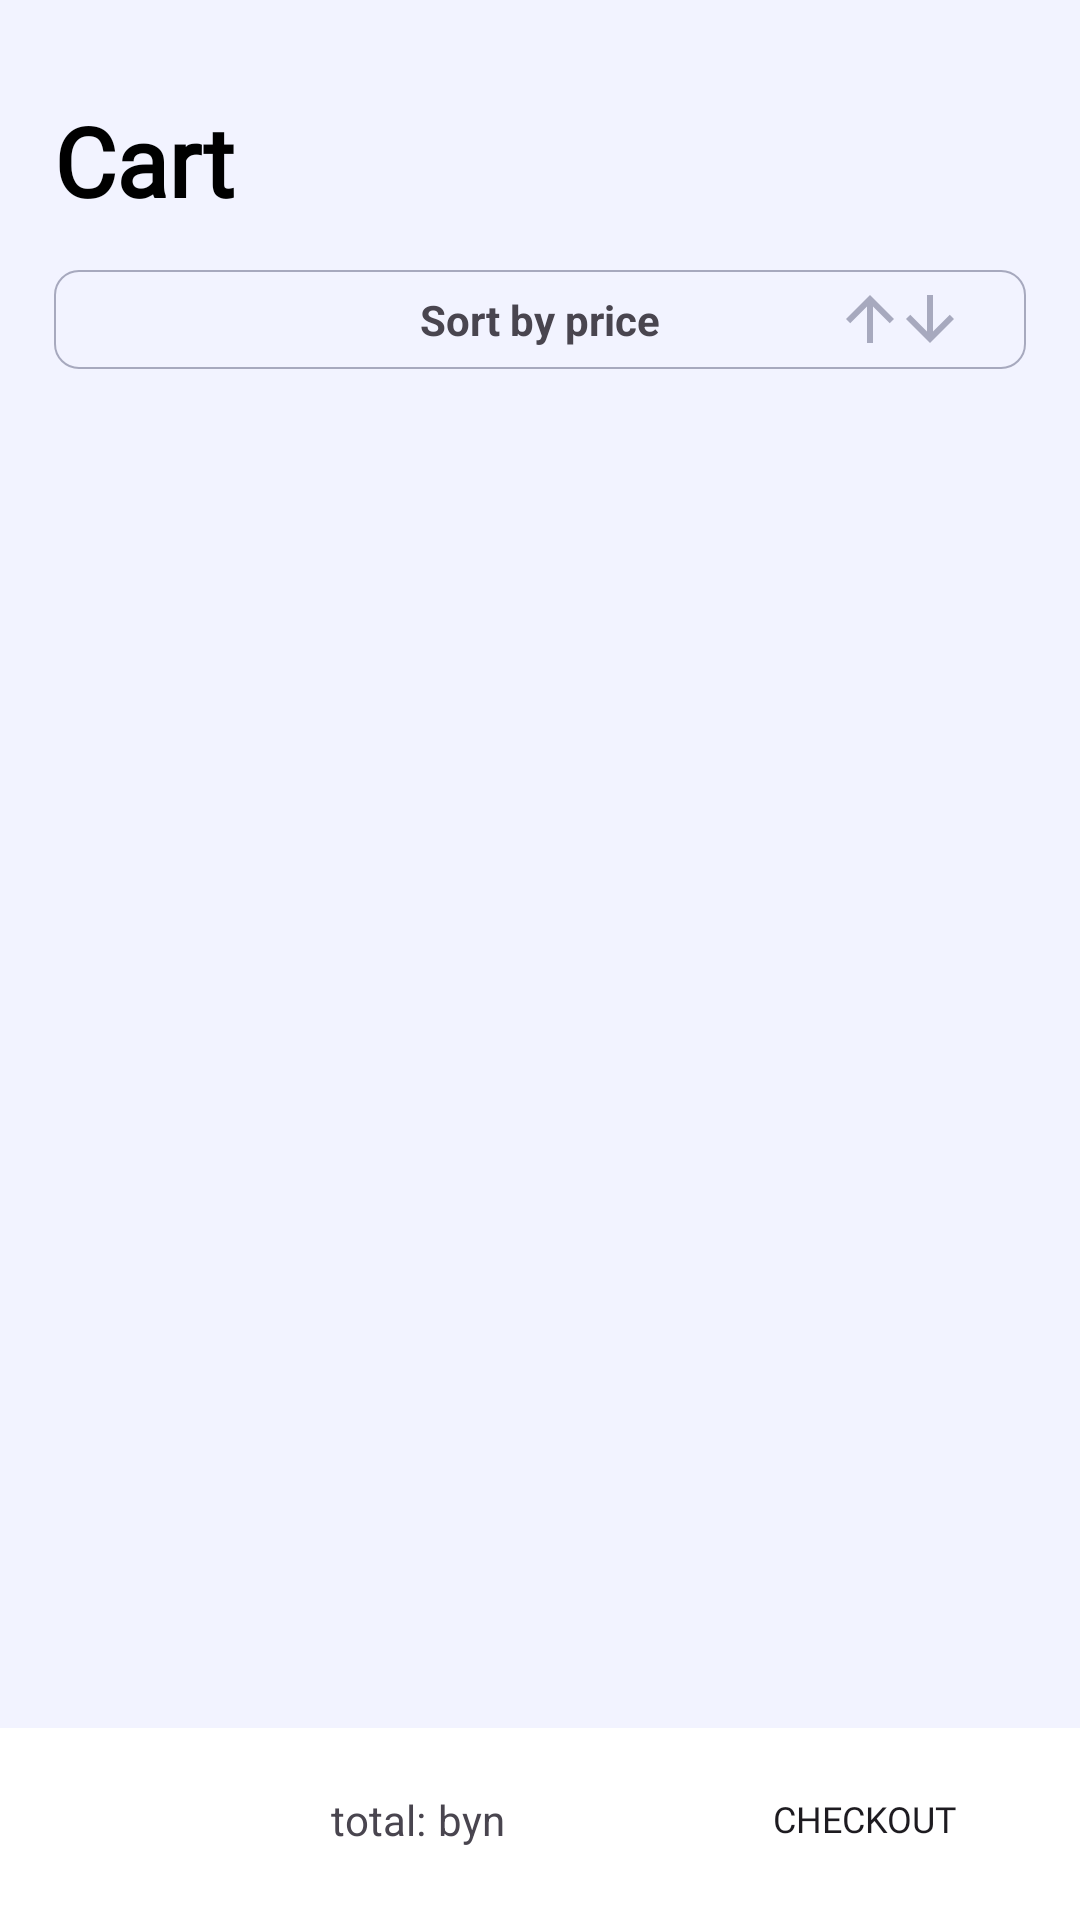

Icons on this 1080px×1920px Android screen, each with its box as bbox=(x1, y1, x2, y2):
arrow downward: bbox=(906, 295, 954, 343)
arrow upward: bbox=(846, 295, 894, 343)
